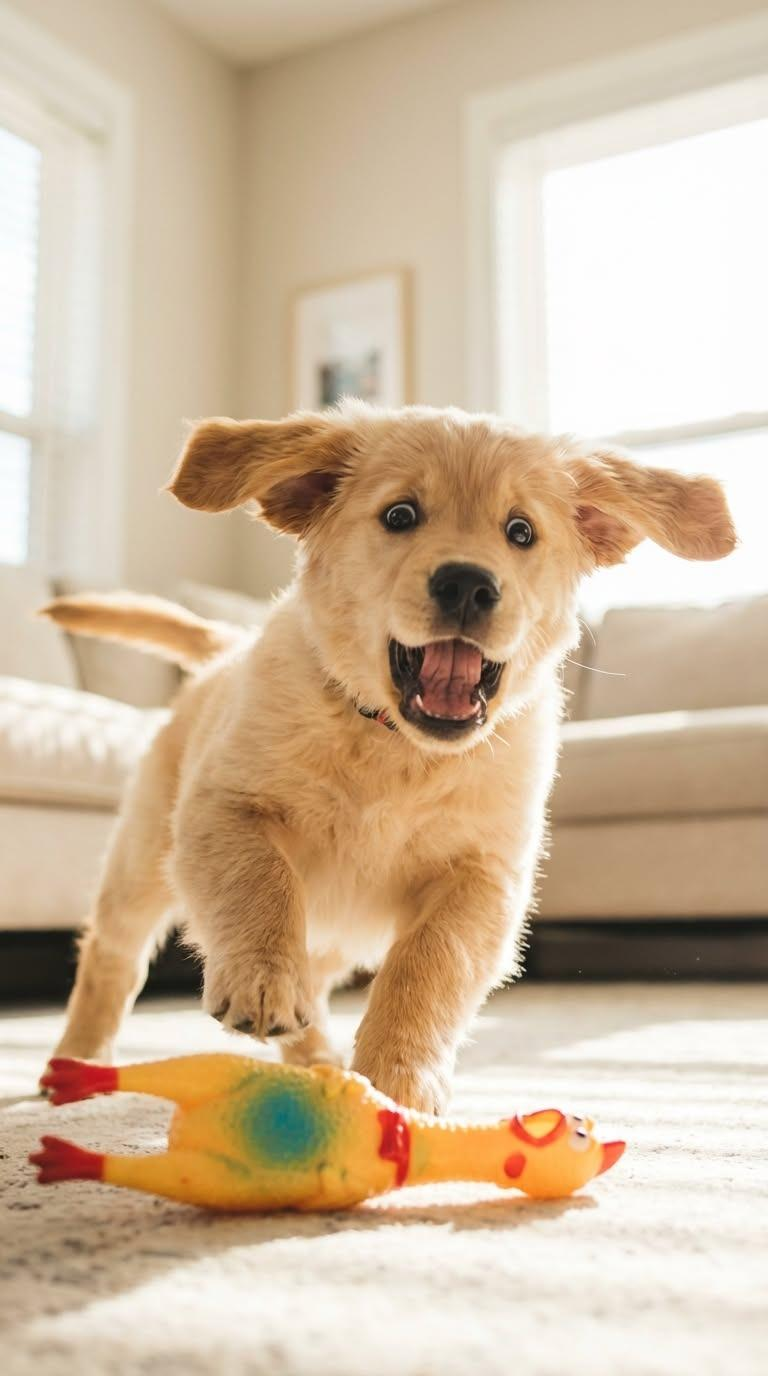non-dog: (27, 1052, 628, 1215)
puppy-dog: (34, 400, 743, 1118)
